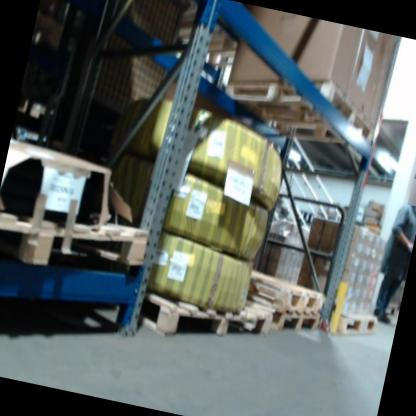pallet: (218, 58, 391, 159), (0, 194, 152, 293), (136, 280, 275, 360), (244, 269, 329, 317), (270, 300, 322, 338), (335, 305, 380, 343)
stillage: (52, 0, 191, 125)
